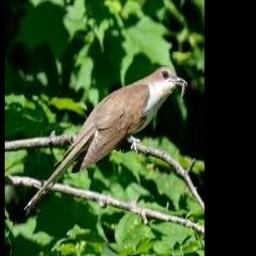Cuckoo: (23, 65, 187, 215)
